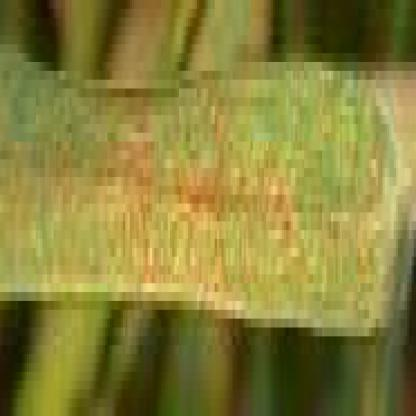Wheat Brown-rust: (1, 93, 379, 281)
